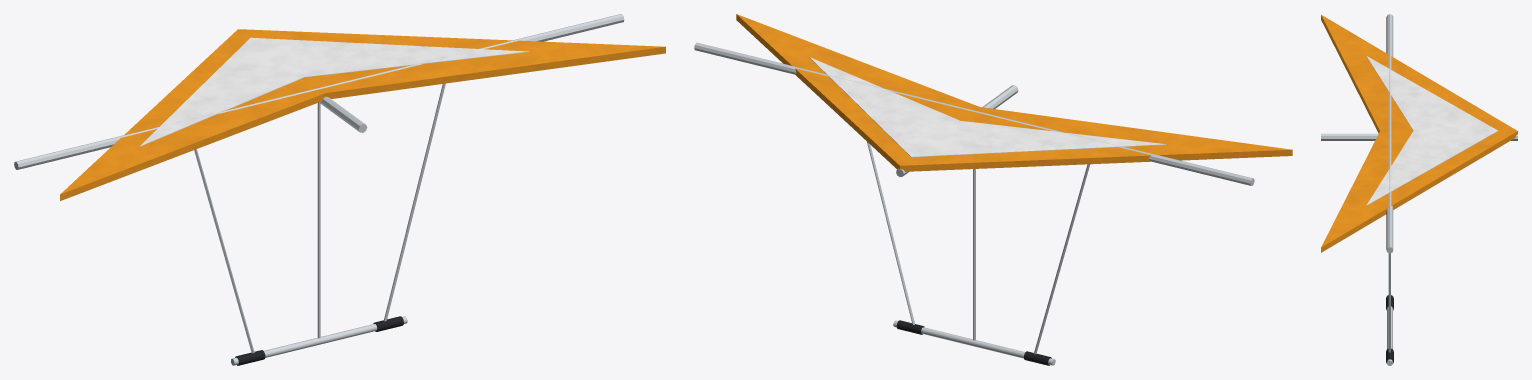
The model's file is glider_wing_sail.glb.
The picture shows the model from 3 angles, left to right: view 1: azimuth 30°, elevation 25°; view 2: azimuth 150°, elevation 25°; view 3: azimuth 270°, elevation 25°; orthographic projection. The views are drawn at different scales.
Visible parts, largest first — view 1: glider_wing_sail; view 2: glider_wing_sail; view 3: glider_wing_sail.
Boxes of the visible parts, <box> form: glider_wing_sail: <box>14,14,665,365</box>; glider_wing_sail: <box>694,14,1292,365</box>; glider_wing_sail: <box>1321,14,1517,365</box>.
Bounding box in the file's own units: 2.8 × 1.14 × 1.
Materials: 4 (3 with a texture image).
